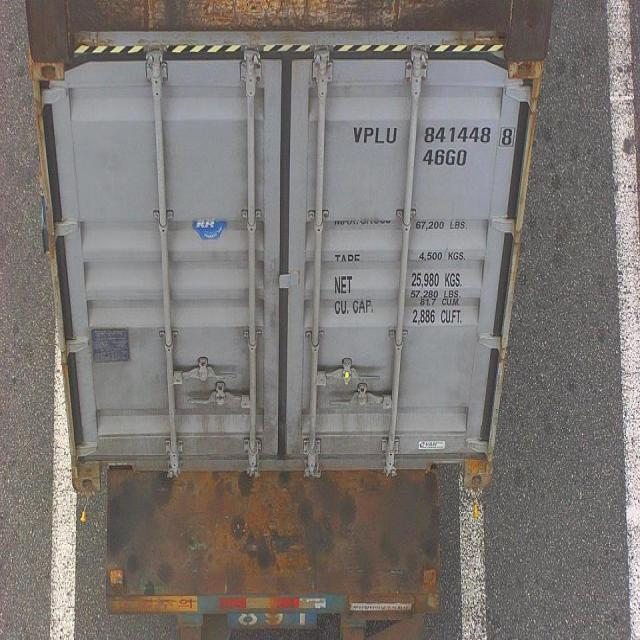ISO: (424, 149, 470, 167)
container_number: (356, 124, 509, 146)
